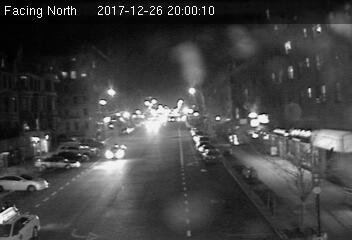car: (104, 144, 127, 160), (203, 148, 221, 163)
